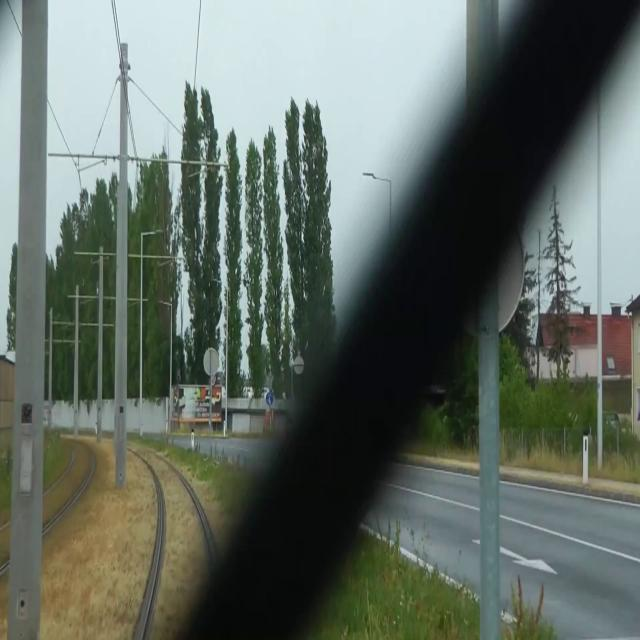rail-track: (145, 455, 232, 639), (43, 440, 89, 524), (0, 527, 9, 565)
